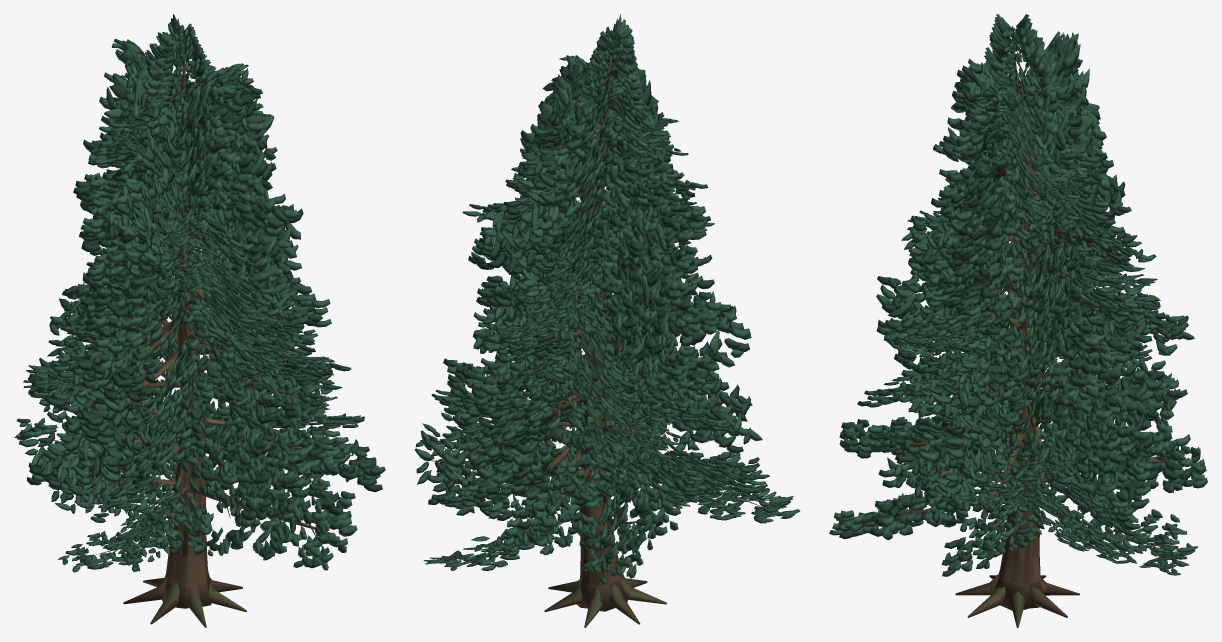
The model's file is alpine-fir-0.glb.
3 views of the same model, side by side, from view 1: azimuth 30°, elevation 25°; view 2: azimuth 150°, elevation 25°; view 3: azimuth 270°, elevation 25° (orthographic).
Parts seen in each view (by area): view 1: forest-cedar-0/1, forest-cedar-0/0; view 2: forest-cedar-0/1, forest-cedar-0/0; view 3: forest-cedar-0/1, forest-cedar-0/0.
Part boxes in pixels (left/top/right/bottom): forest-cedar-0/1: left=14, top=14, right=385, bottom=572; forest-cedar-0/0: left=54, top=48, right=353, bottom=627; forest-cedar-0/1: left=415, top=14, right=800, bottom=584; forest-cedar-0/0: left=431, top=50, right=770, bottom=627; forest-cedar-0/1: left=829, top=14, right=1207, bottom=576; forest-cedar-0/0: left=861, top=49, right=1177, bottom=627.
Bounding box in the file's own units: 9 × 15.42 × 9.07.
